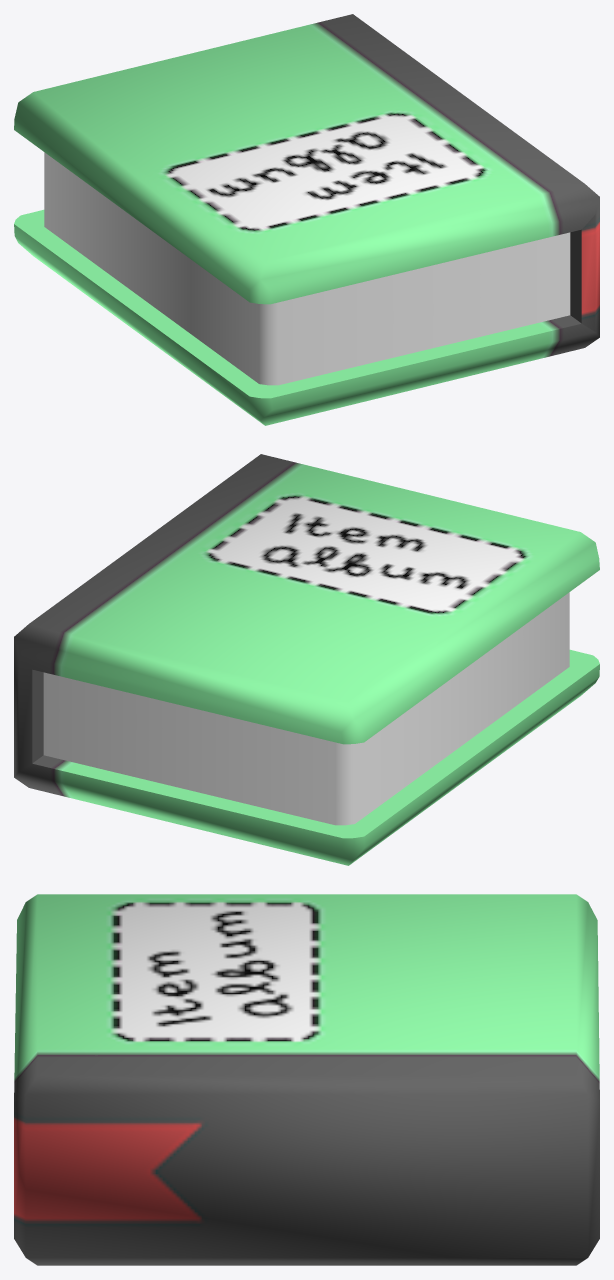
Rendered from itemAlbum.fbx.
3 renders of one model, top to bottom at view 1: azimuth 30°, elevation 25°; view 2: azimuth 150°, elevation 25°; view 3: azimuth 270°, elevation 25°, orthographic. The views are drawn at different scales.
Visible parts, largest first — view 1: itemAlbum; view 2: itemAlbum; view 3: itemAlbum.
Part boxes in pixels (x1,y1,x2,y2): itemAlbum: (14, 14, 599, 425); itemAlbum: (14, 454, 599, 865); itemAlbum: (14, 894, 599, 1265).
Size of the model in its own units: 45.94 by 20.72 by 57.78.
1 material, 1 textured.
